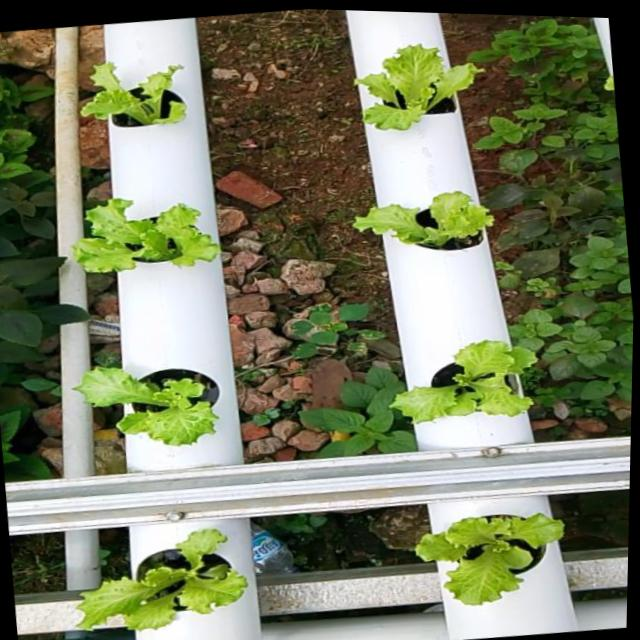Baby: (66, 522, 239, 623), (409, 494, 558, 603), (383, 337, 533, 422), (73, 366, 220, 445), (71, 196, 220, 272), (356, 42, 486, 128), (354, 190, 495, 250), (81, 60, 186, 125)
